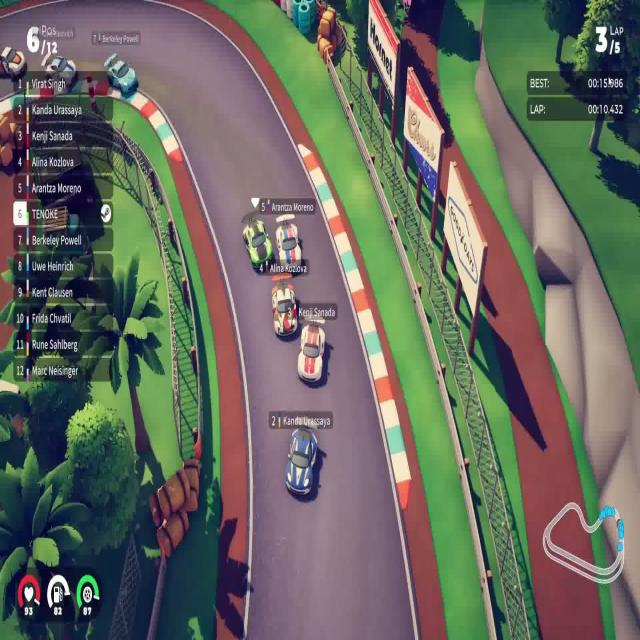car: (284, 426, 318, 497), (296, 321, 326, 384), (242, 217, 274, 273), (274, 214, 302, 272), (271, 280, 298, 338), (104, 53, 138, 95)
